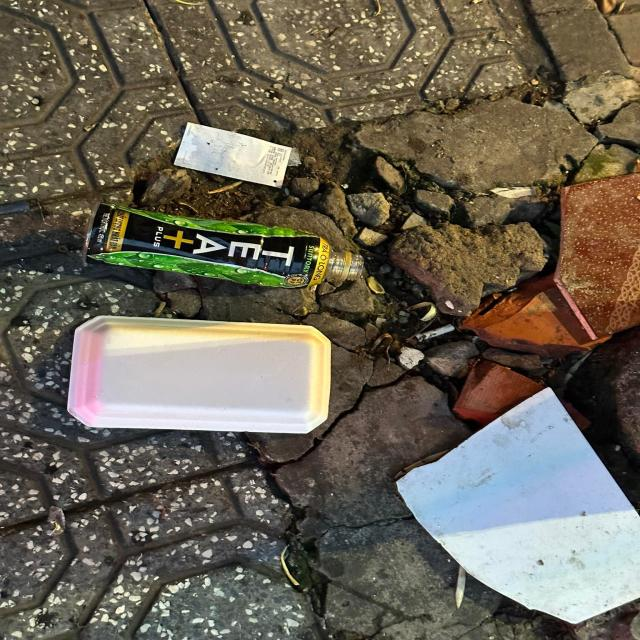bottle: (84, 202, 366, 290)
foam box: (65, 314, 333, 435)
packet: (174, 122, 294, 190)
